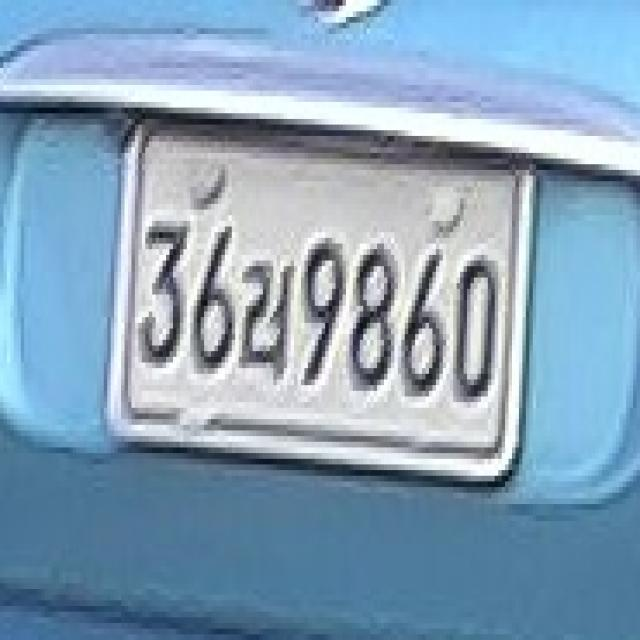0: (453, 249, 498, 408)
3: (138, 215, 190, 374)
6: (187, 226, 235, 374), (401, 249, 443, 397)
8: (350, 243, 394, 391)
9: (297, 232, 346, 385)
leo: (239, 249, 294, 385)
license_plate: (121, 119, 522, 464)
